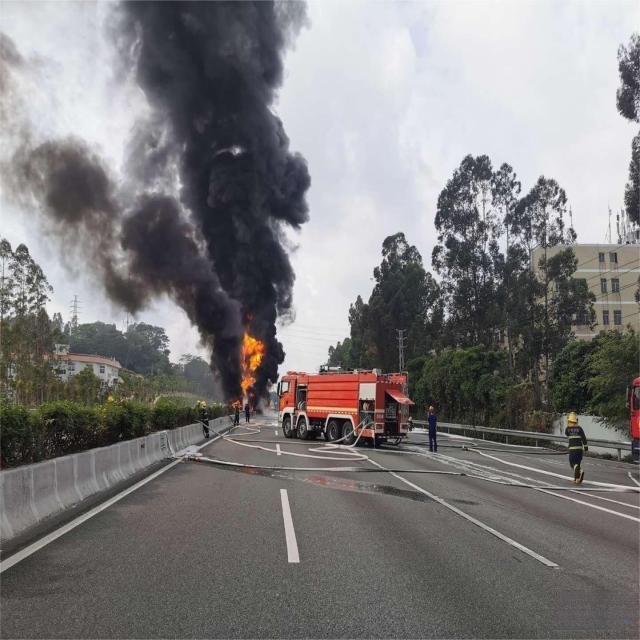Fire: (238, 318, 266, 398)
Smoke: (0, 0, 308, 258), (101, 259, 237, 402), (237, 256, 296, 320), (267, 322, 284, 387)
